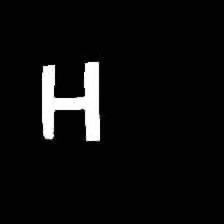LTR_H: (29, 56, 110, 149)
